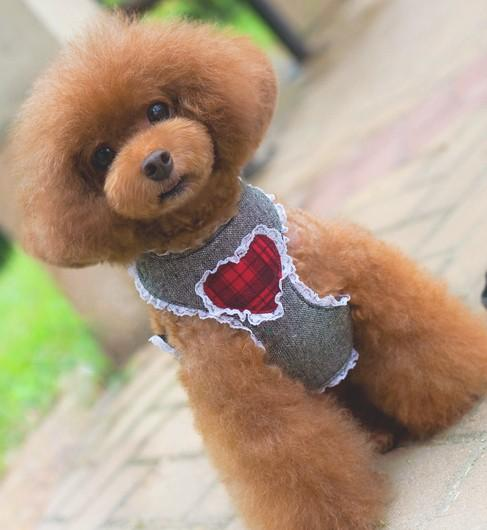dog: (6, 8, 480, 525)
